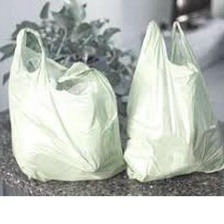plastic_bag: (6, 23, 127, 183), (121, 15, 224, 185)
